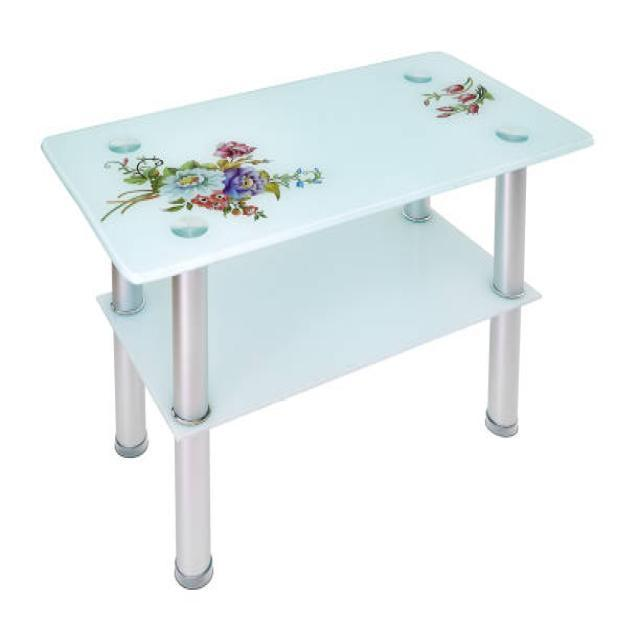table: (40, 47, 594, 588)
